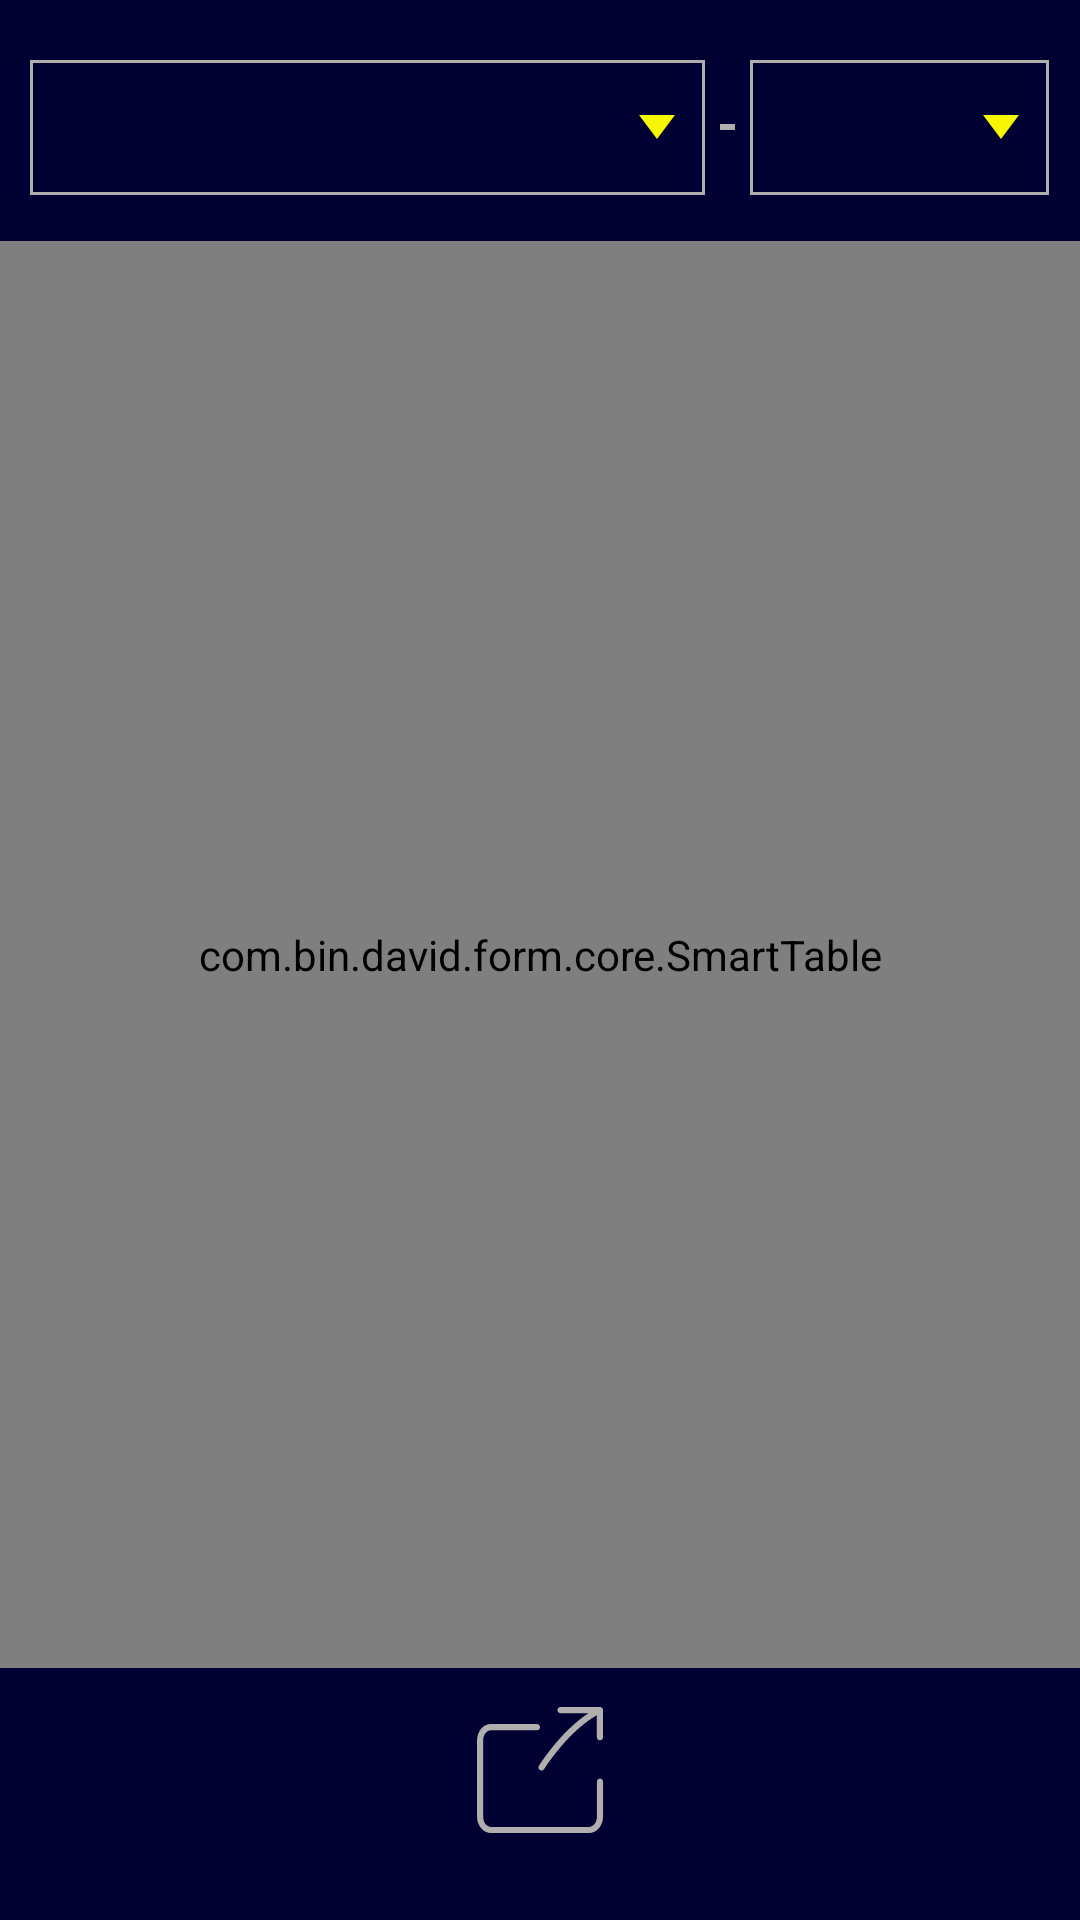

Screen size 1080x1920. Icon name, then its center in pixels as (x=x, y=y):
share: (x=540, y=1770)
